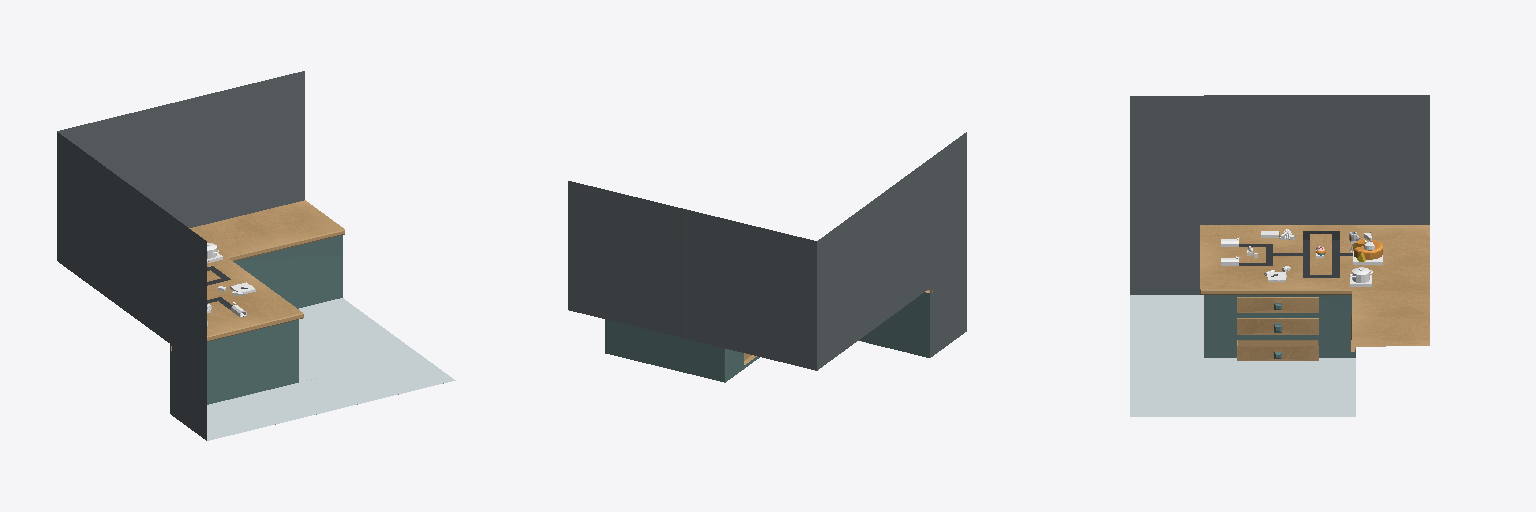
3 renders of one model, left to right at view 1: azimuth 30°, elevation 25°; view 2: azimuth 150°, elevation 25°; view 3: azimuth 270°, elevation 25°, orthographic.
Parts seen in each view (by area): view 1: BG_Kitchen_Table_Thing1; view 2: BG_Kitchen_Table_Thing1; view 3: BG_Kitchen_Table_Thing1, Path_Lvl5, Collider.
Part boxes in pixels (x1,y1,x2,y2): BG_Kitchen_Table_Thing1: (57,71,455,440); BG_Kitchen_Table_Thing1: (568,132,966,382); BG_Kitchen_Table_Thing1: (1130,95,1429,416); Path_Lvl5: (1239,231,1352,277); Collider: (1247,231,1382,286).
Size of the model in its own units: 77.45 by 59.4 by 80.96.
34 materials, 12 textured.